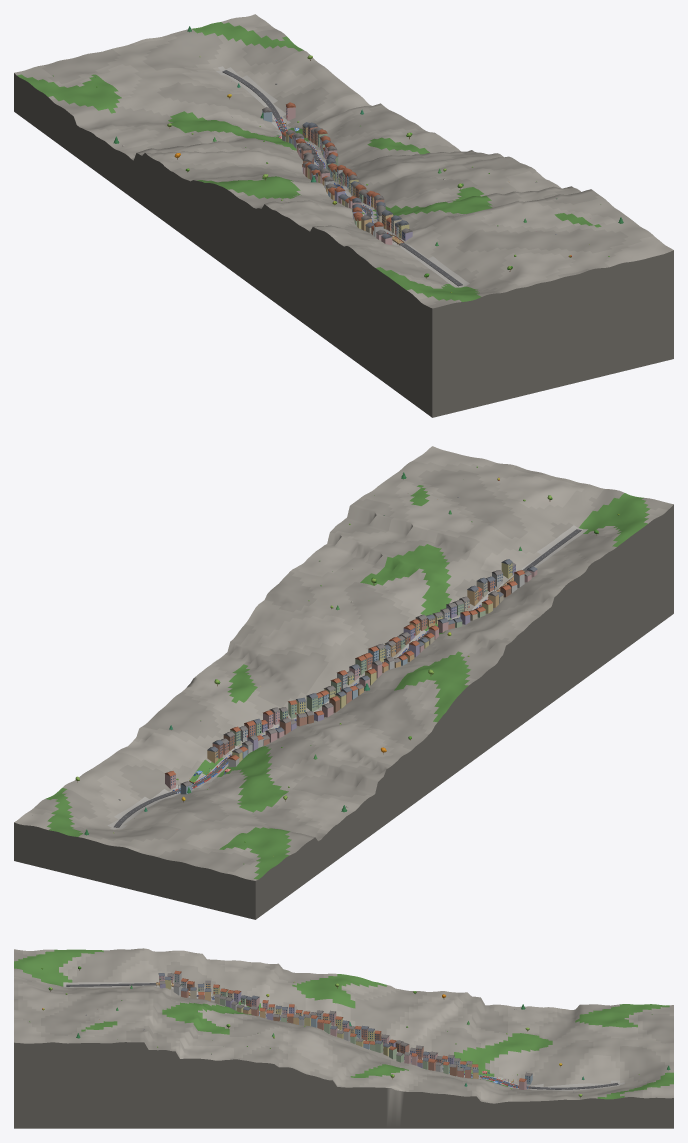
3 views of the same model, one above another, from view 1: azimuth 30°, elevation 25°; view 2: azimuth 150°, elevation 25°; view 3: azimuth 270°, elevation 25° (orthographic). The views are drawn at different scales.
Parts seen in each view (by area): view 1: grass, buildings, road; view 2: grass, buildings, road; view 3: grass, buildings, road.
Boxes of the visible parts, x1,y1,x2,y2 form: grass: (14,14,673,417); buildings: (262,102,412,245); road: (222,70,462,286); grass: (14,446,673,919); buildings: (165,559,537,794); road: (114,529,581,827); grass: (14,948,673,1128); buildings: (156,970,532,1089); road: (66,983,618,1089).
Size of the model in its own units: 294 by 134 by 882.
